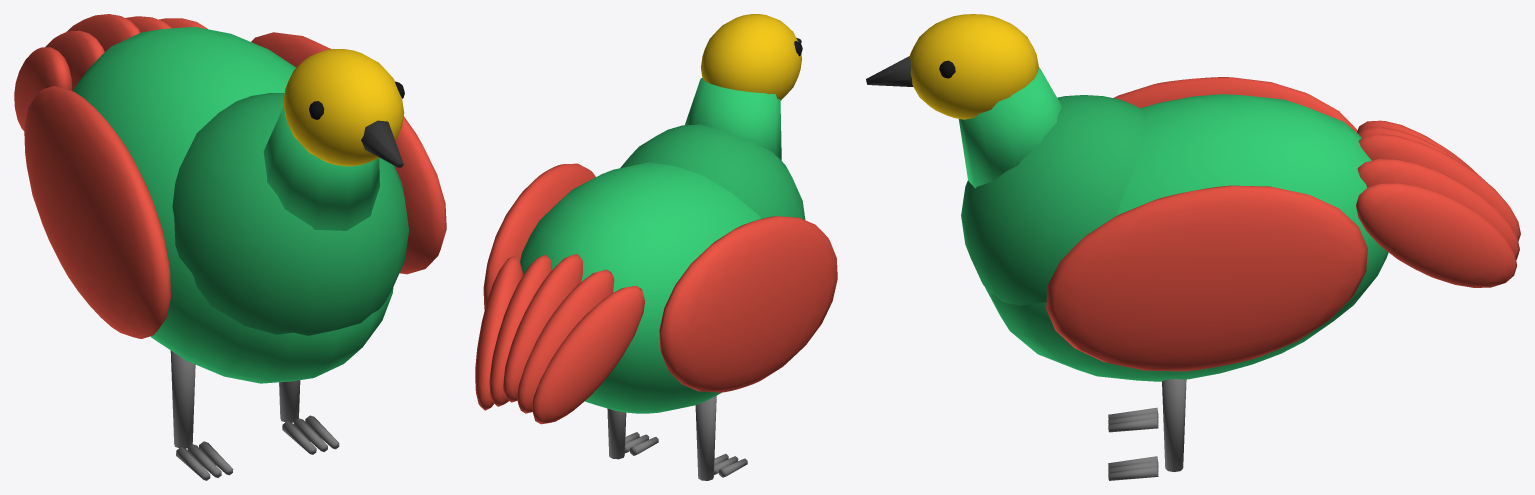
Rendered from parrot.glb.
3 views of the same model, side by side, from view 1: azimuth 30°, elevation 25°; view 2: azimuth 150°, elevation 25°; view 3: azimuth 270°, elevation 25° (orthographic). The views are drawn at different scales.
Visible parts, largest first — view 1: parrot; view 2: parrot; view 3: parrot.
Boxes of the visible parts, x1,y1,x2,y2 form: parrot: (14,14,446,480); parrot: (475,14,837,480); parrot: (866,14,1520,480).
Bounding box in the file's own units: 0.3232 × 0.466 × 0.6392.
